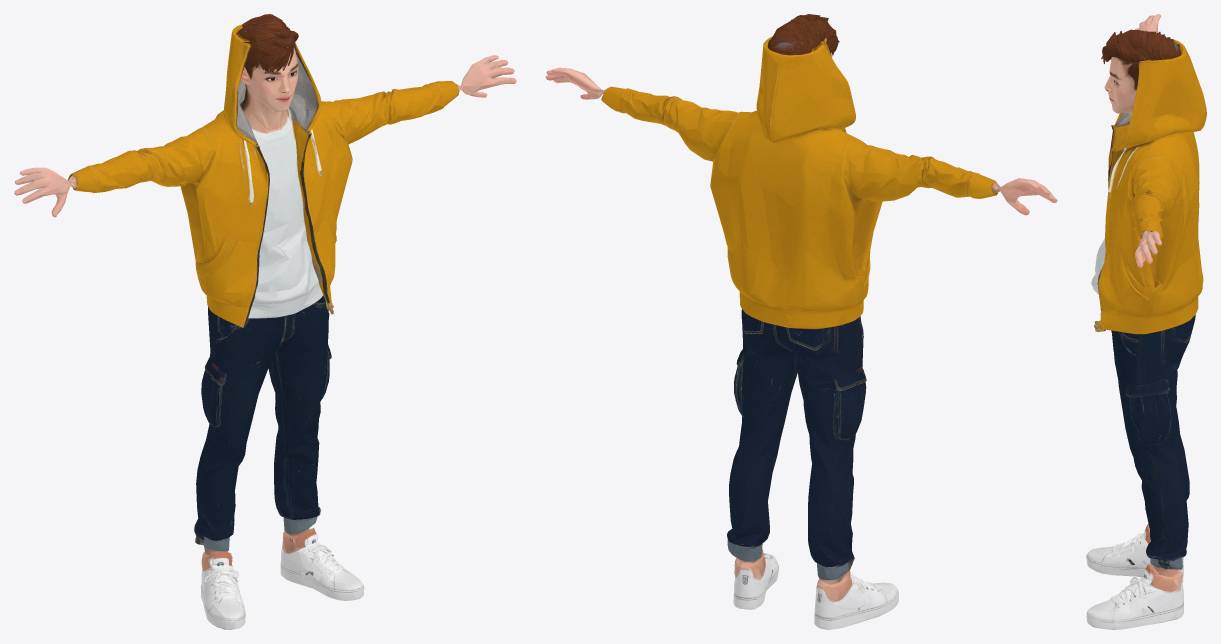
File: guest-tpose-source.glb
3 renders of one model, left to right at view 1: azimuth 30°, elevation 25°; view 2: azimuth 150°, elevation 25°; view 3: azimuth 270°, elevation 25°, orthographic. The views are drawn at different scales.
Parts seen in each view (by area): view 1: Prepared_T_Pose; view 2: Prepared_T_Pose; view 3: Prepared_T_Pose.
Boxes of the visible parts, x1,y1,x2,y2 form: Prepared_T_Pose: (14, 14, 516, 629); Prepared_T_Pose: (545, 14, 1057, 629); Prepared_T_Pose: (1086, 14, 1206, 629).
Bounding box in the file's own units: 1.59 × 1.75 × 0.339.
1 material, 1 textured.
